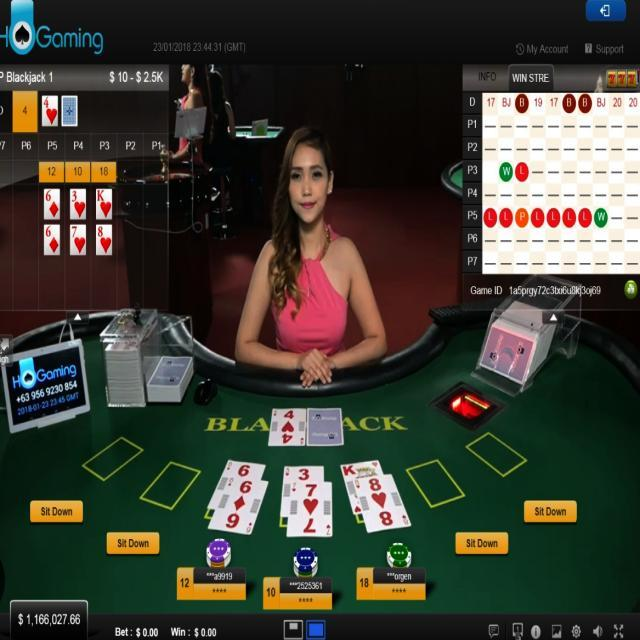Card-3: (279, 465, 324, 517)
Card-4: (267, 406, 307, 444)
Card-6: (205, 477, 267, 536), (206, 459, 266, 507)
Card-7: (287, 484, 332, 535)
Card-8: (356, 475, 411, 531)
Card-K: (340, 458, 382, 514)
